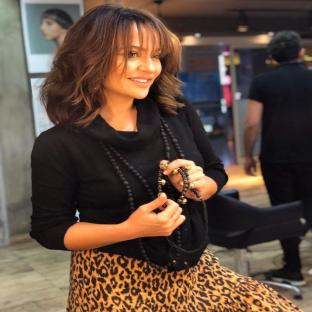Human: (30, 5, 302, 312)
